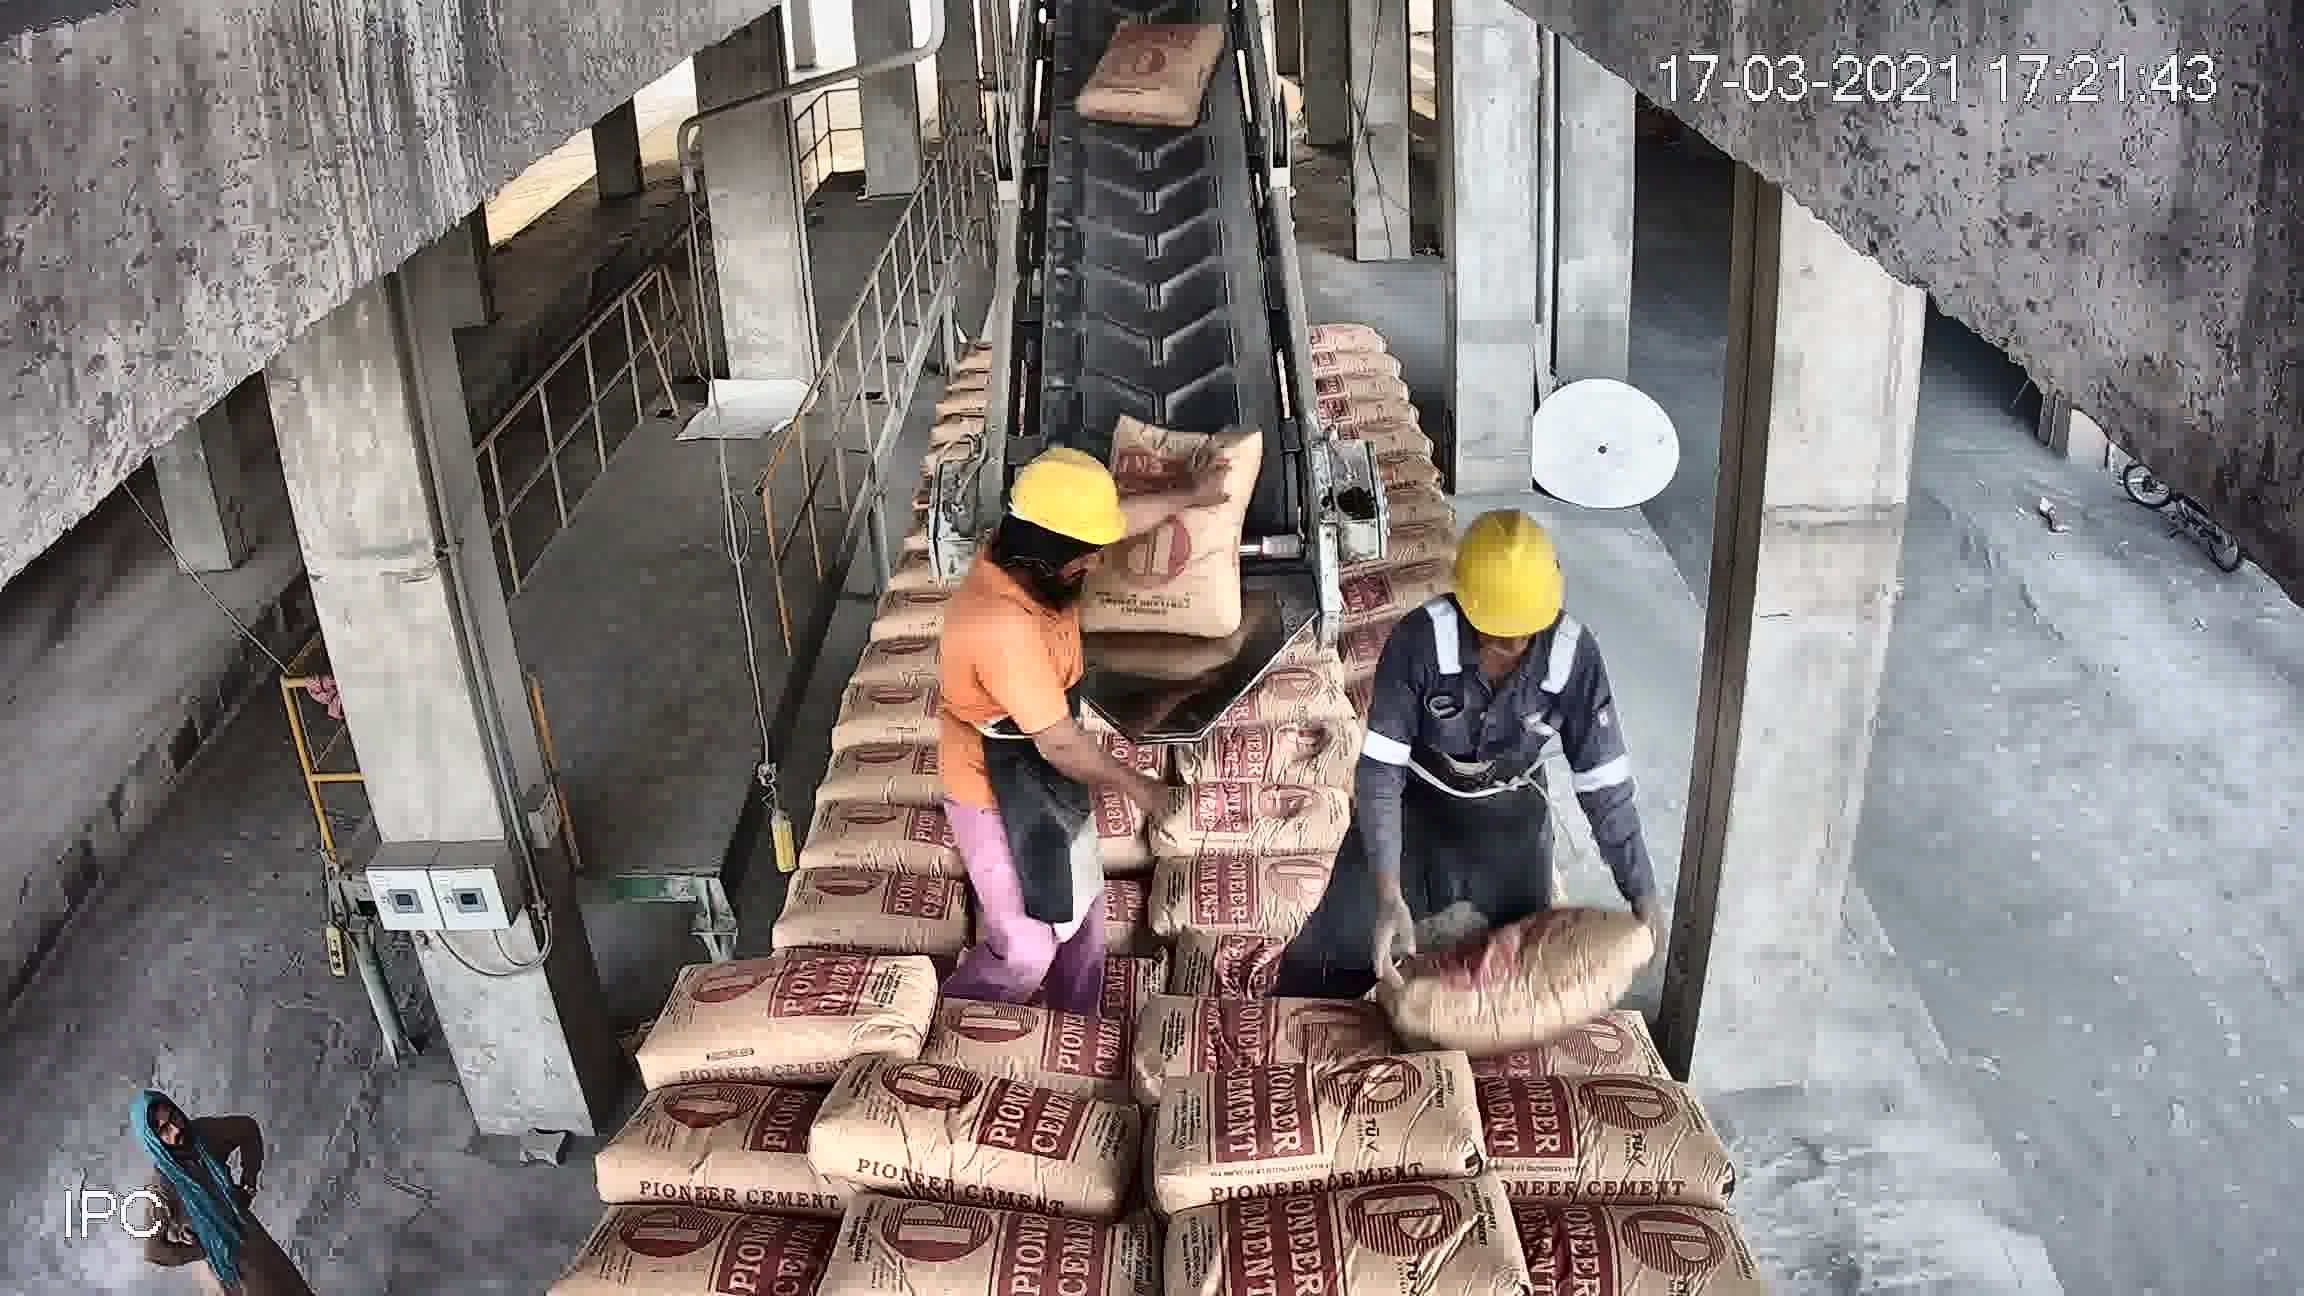bag_h: (1163, 1048, 1499, 1188), (1143, 929, 1448, 1070), (820, 1060, 1138, 1193), (1476, 1074, 1771, 1204), (892, 930, 1157, 1071), (1128, 728, 1404, 843), (1472, 957, 1696, 1097), (1154, 1174, 1503, 1261), (902, 726, 1154, 845), (839, 1188, 1116, 1296), (1168, 840, 1424, 953), (646, 951, 855, 1084), (905, 836, 1125, 959), (590, 1082, 804, 1206), (1431, 843, 1650, 961), (1480, 1214, 1771, 1296), (695, 853, 904, 967), (567, 1203, 823, 1290), (695, 772, 902, 870), (1399, 755, 1605, 843), (1157, 650, 1358, 737), (1138, 554, 1340, 628), (1017, 642, 1184, 722), (1184, 600, 1339, 677), (1163, 498, 1331, 568), (1021, 571, 1184, 638), (1022, 704, 1184, 767), (1005, 620, 1184, 668), (888, 514, 1032, 565), (1055, 540, 1174, 585), (918, 430, 1017, 476), (908, 481, 1003, 511)
belt: (1024, 28, 1283, 498)
